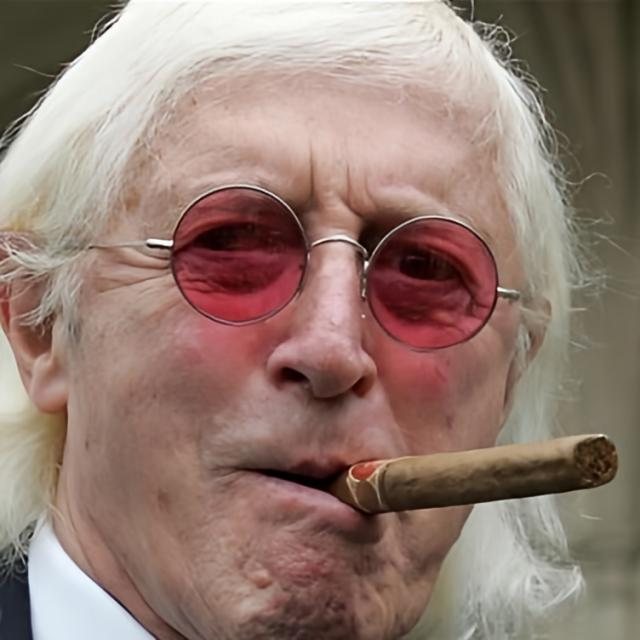disgust: (70, 53, 515, 640)
